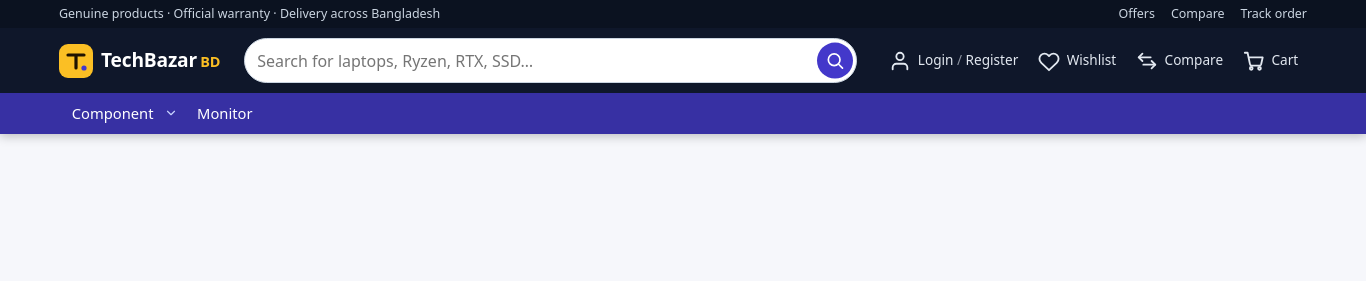
Test: HeaderComponent › hover opens the panel too
Hover over the list item with class "mega-item" showing "Component".
mouse_move(122, 113)  # box [59,93,184,134]
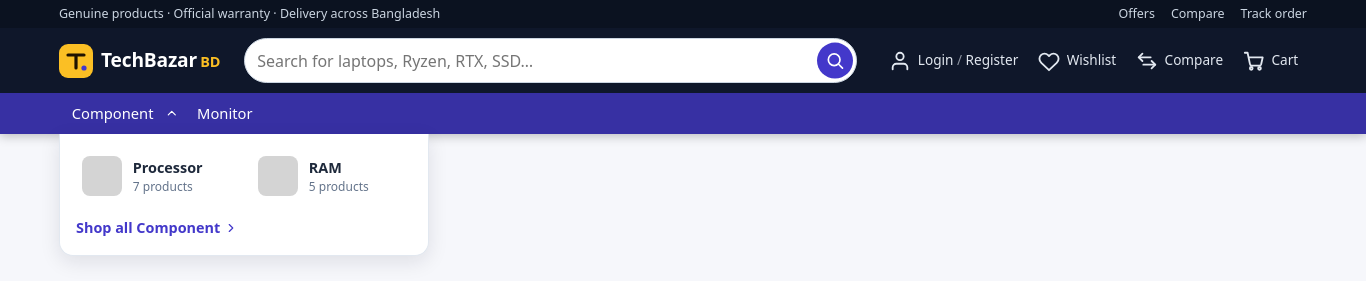
Check: the element with class "mega-panel" is shown, box [59,134,429,256]
